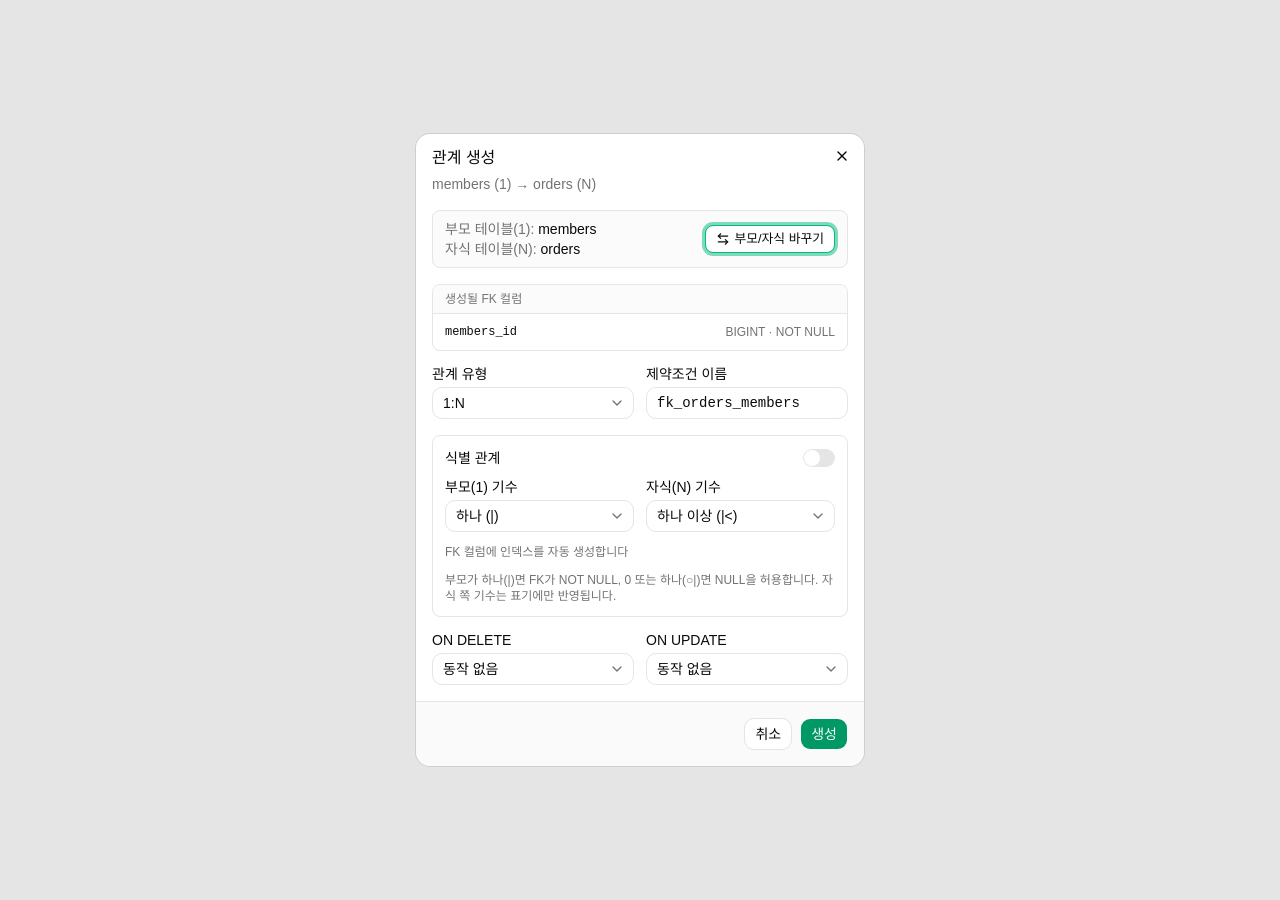
it: RelationshipDialog — 생성 › 비식별 1:1은 UK 자동 생성 안내가 함께 보인다
Expected: the text "유니크 키를 자동 생성" is not shown
Expected: the text "FK 컬럼에 인덱스를 자동 생성합니다" is shown, [445,545,628,559]
Click the dropdown named "관계 유형" at (533, 403), box [432,387,634,419]
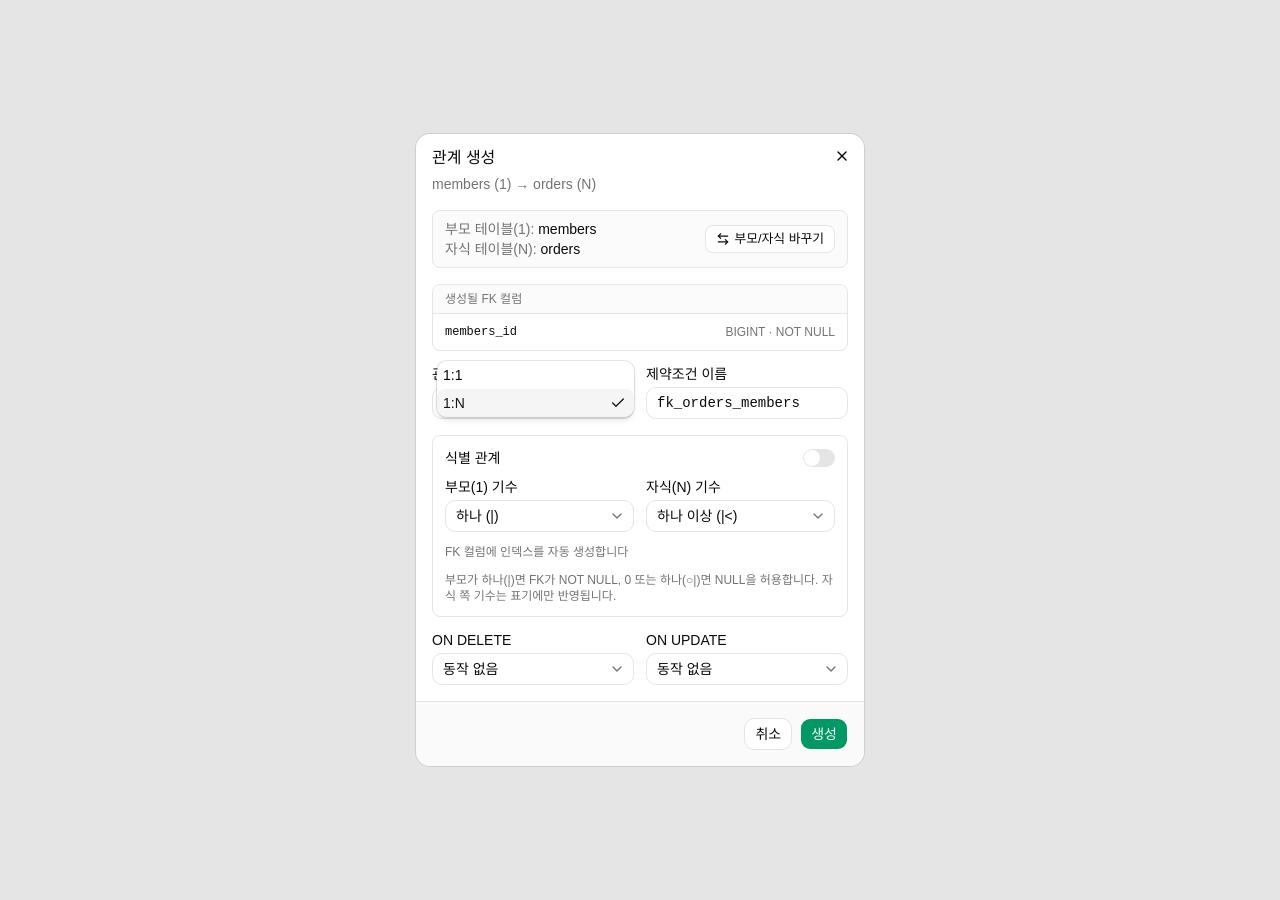
Click the option "1:1" at (453, 375), box [443,367,462,383]
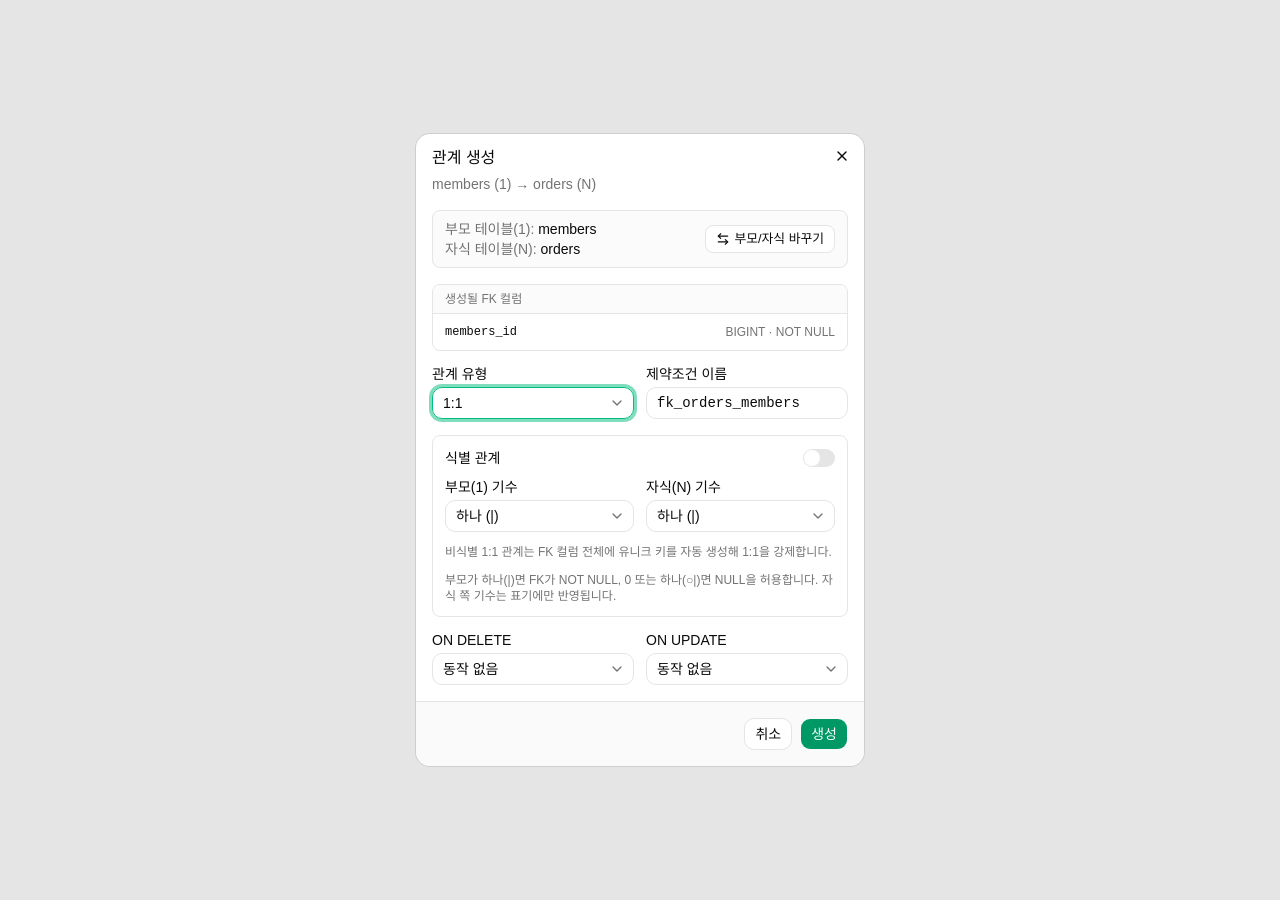
Now the text "비식별 1:1 관계는 FK 컬럼 전체에 유니크 키를 자동 생성해 1:1을 강제합니다." is shown, box [445,544,835,560]
Now the text "FK 컬럼에 인덱스를 자동 생성합니다" is gone
